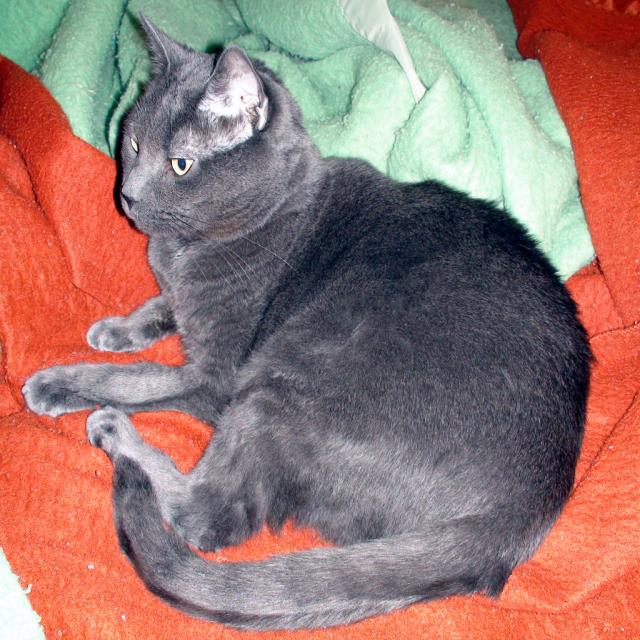Cat: (18, 7, 597, 634)
